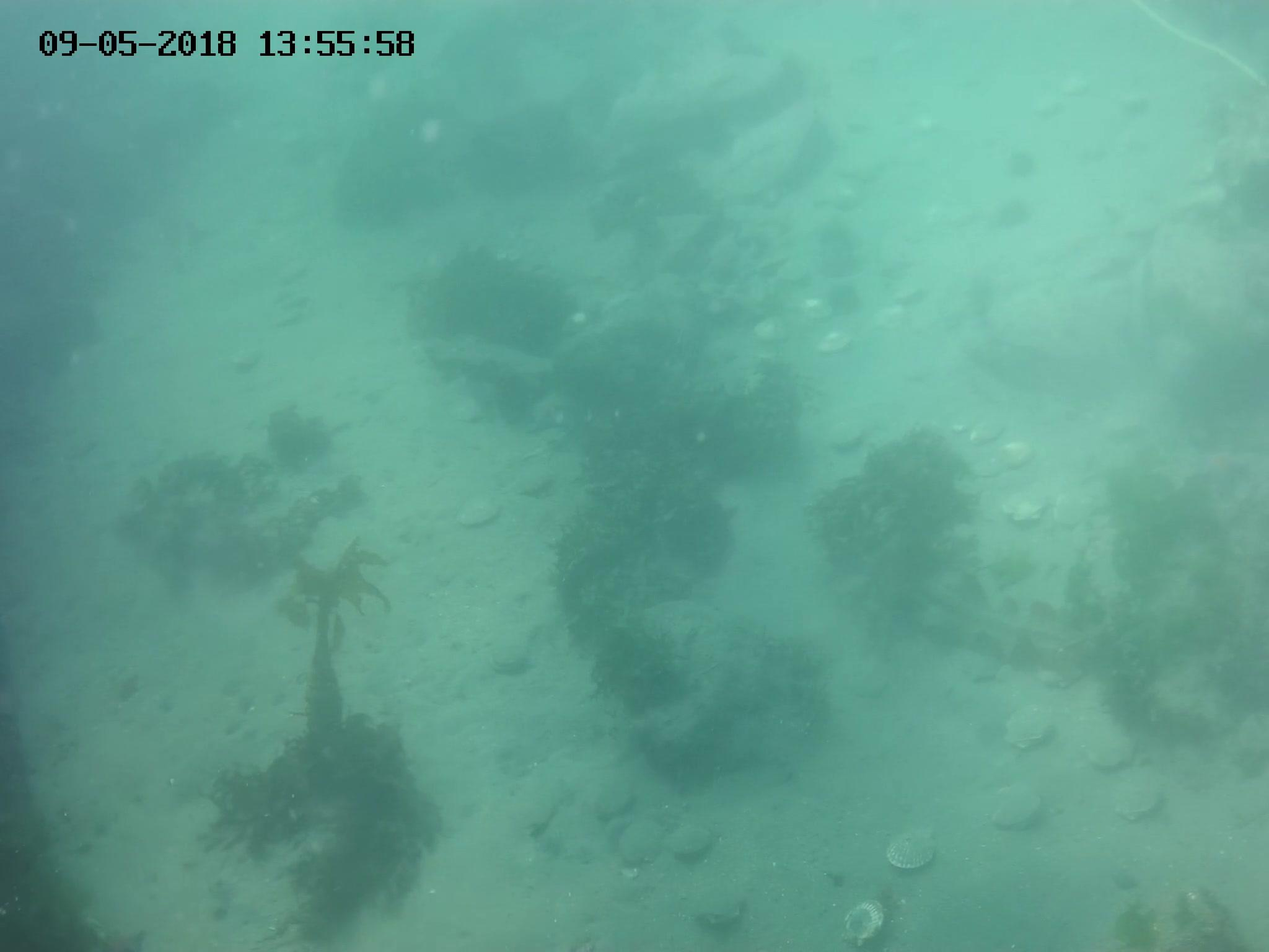scallop: (998, 701, 1061, 754), (985, 781, 1045, 832), (882, 826, 939, 875), (841, 900, 893, 952), (690, 888, 750, 928), (1113, 783, 1164, 829), (615, 822, 661, 871), (1082, 728, 1139, 767), (998, 491, 1056, 526), (450, 495, 504, 527), (664, 824, 713, 859), (486, 644, 532, 679), (592, 785, 636, 820), (957, 653, 1006, 682), (869, 305, 909, 333), (749, 316, 790, 343), (1005, 439, 1038, 470), (814, 330, 854, 355), (799, 297, 836, 322), (969, 421, 1004, 446), (832, 428, 863, 451), (971, 459, 1001, 478)
